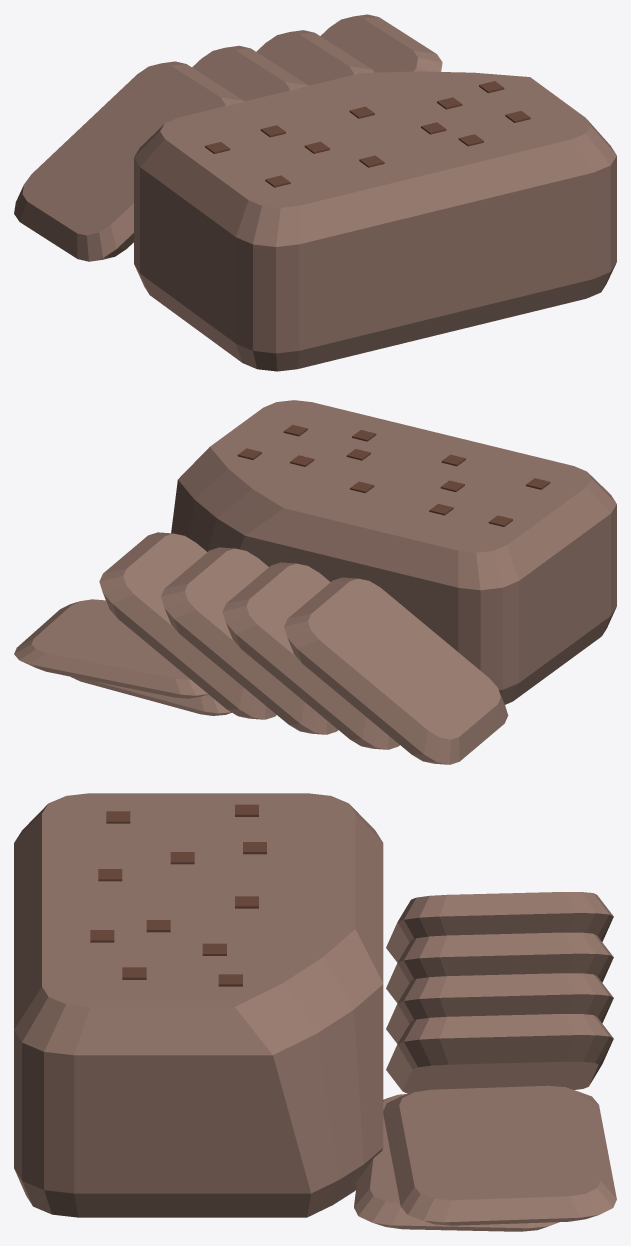
Rendered from SM_Cook_Topping_Pate_HD_01.fbx.
3 views of the same model, one above another, from view 1: azimuth 30°, elevation 25°; view 2: azimuth 150°, elevation 25°; view 3: azimuth 270°, elevation 25° (orthographic). The views are drawn at different scales.
Visible parts, largest first — view 1: SM_Cook_Topping_Pate_HD_01; view 2: SM_Cook_Topping_Pate_HD_01; view 3: SM_Cook_Topping_Pate_HD_01.
Boxes of the visible parts, x1,y1,x2,y2 form: SM_Cook_Topping_Pate_HD_01: (14,14,616,371); SM_Cook_Topping_Pate_HD_01: (14,400,616,764); SM_Cook_Topping_Pate_HD_01: (14,793,616,1231).
Bounding box in the file's own units: 0.1722 × 0.0566 × 0.1502.
Materials: 1 (1 with a texture image).
